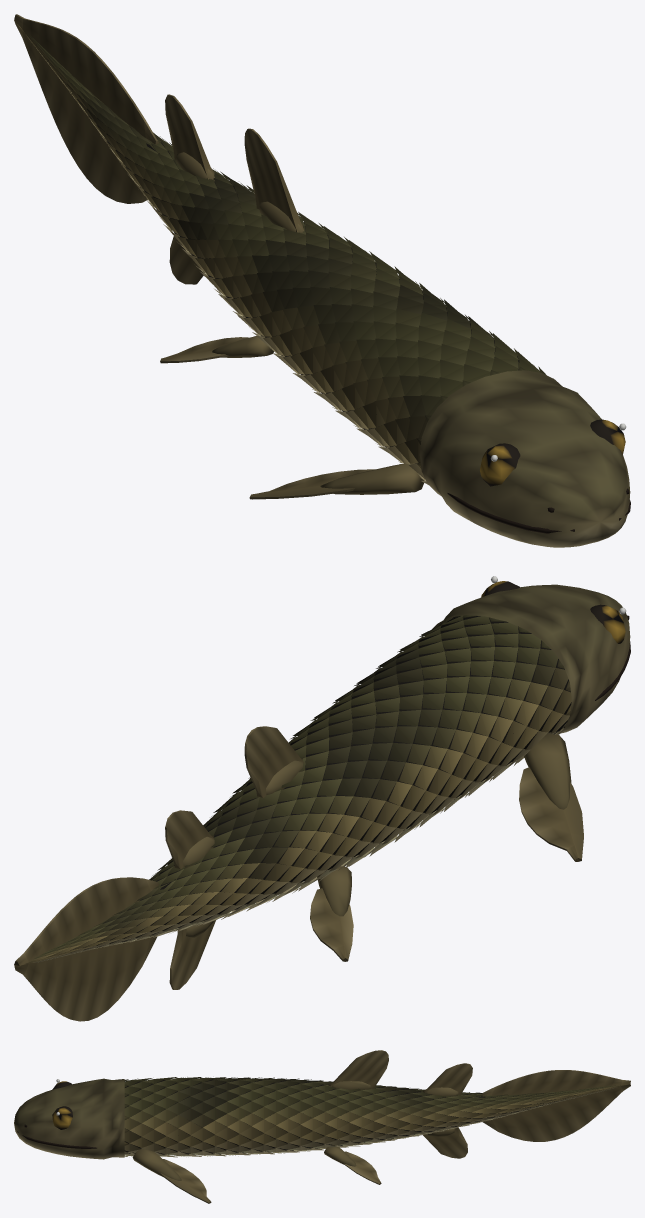
File: Tungsenia.fbx
3 renders of one model, top to bottom at view 1: azimuth 30°, elevation 25°; view 2: azimuth 150°, elevation 25°; view 3: azimuth 270°, elevation 25°, orthographic. The views are drawn at different scales.
Parts seen in each view (by area): view 1: Tungsenia; view 2: Tungsenia; view 3: Tungsenia.
Boxes of the visible parts, x1,y1,x2,y2 form: Tungsenia: [14, 14, 630, 547]; Tungsenia: [14, 576, 630, 1021]; Tungsenia: [14, 1050, 630, 1203].
Size of the model in its own units: 0.559 by 0.3392 by 1.7.
